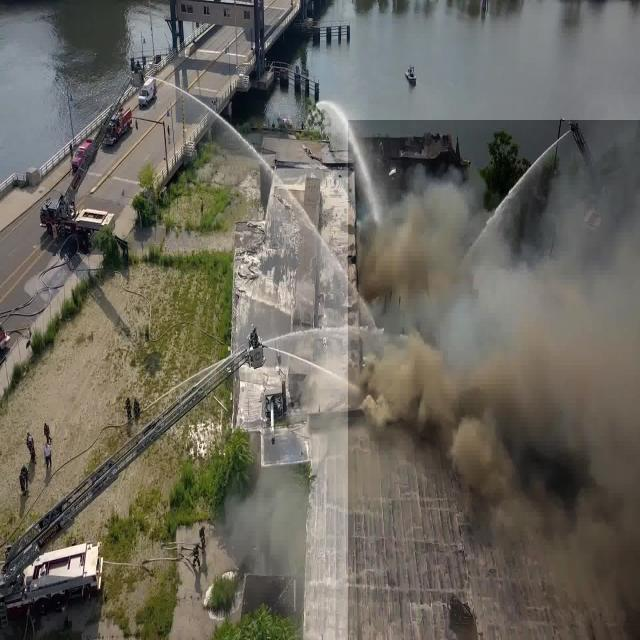Smoke: (348, 120, 640, 640)
